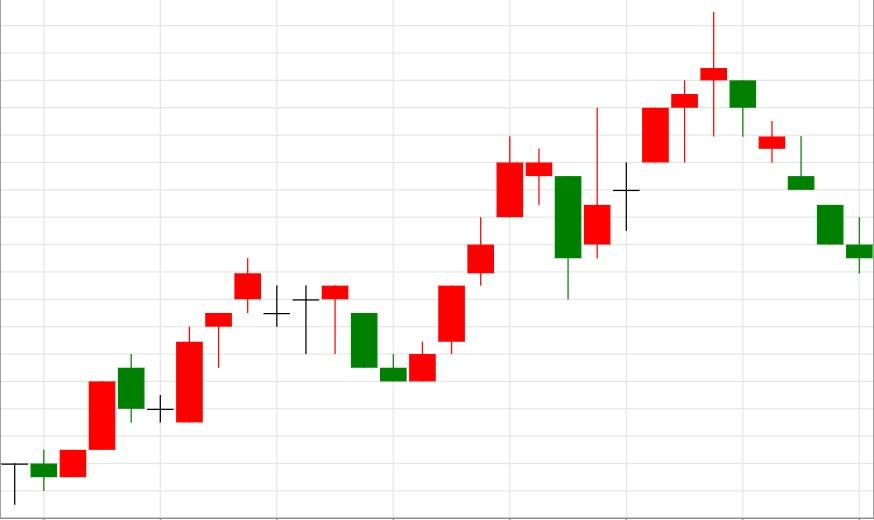bullish_engulfing_rise: (321, 284, 438, 382)
